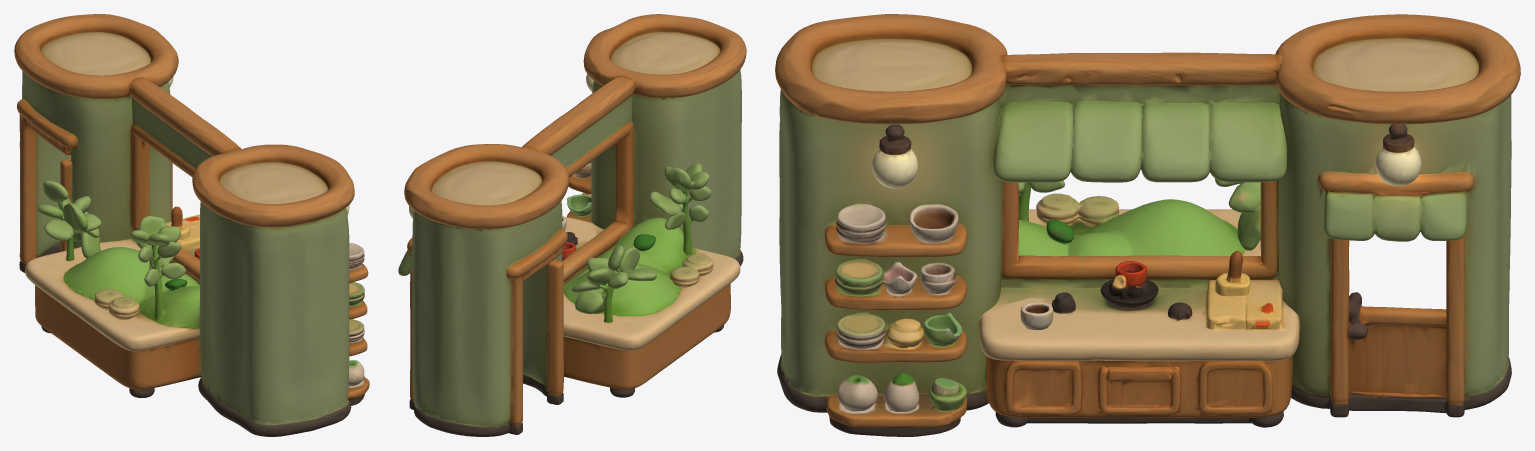
The model's file is restaurant-backdrop.glb.
The picture shows the model from 3 angles, left to right: view 1: azimuth 30°, elevation 25°; view 2: azimuth 150°, elevation 25°; view 3: azimuth 270°, elevation 25°; orthographic projection. The views are drawn at different scales.
Visible parts, largest first — view 1: tripo_node_3ec6bc63-4be6-4c28-bb88-7d56ec102d28; view 2: tripo_node_3ec6bc63-4be6-4c28-bb88-7d56ec102d28; view 3: tripo_node_3ec6bc63-4be6-4c28-bb88-7d56ec102d28.
Part boxes in pixels (bbox=[...]): tripo_node_3ec6bc63-4be6-4c28-bb88-7d56ec102d28: bbox=[14, 14, 369, 436]; tripo_node_3ec6bc63-4be6-4c28-bb88-7d56ec102d28: bbox=[398, 14, 746, 436]; tripo_node_3ec6bc63-4be6-4c28-bb88-7d56ec102d28: bbox=[775, 14, 1520, 436].
Size of the model in its own units: 0.4395 by 0.4845 by 1.
Materials: 1 (1 with a texture image).
